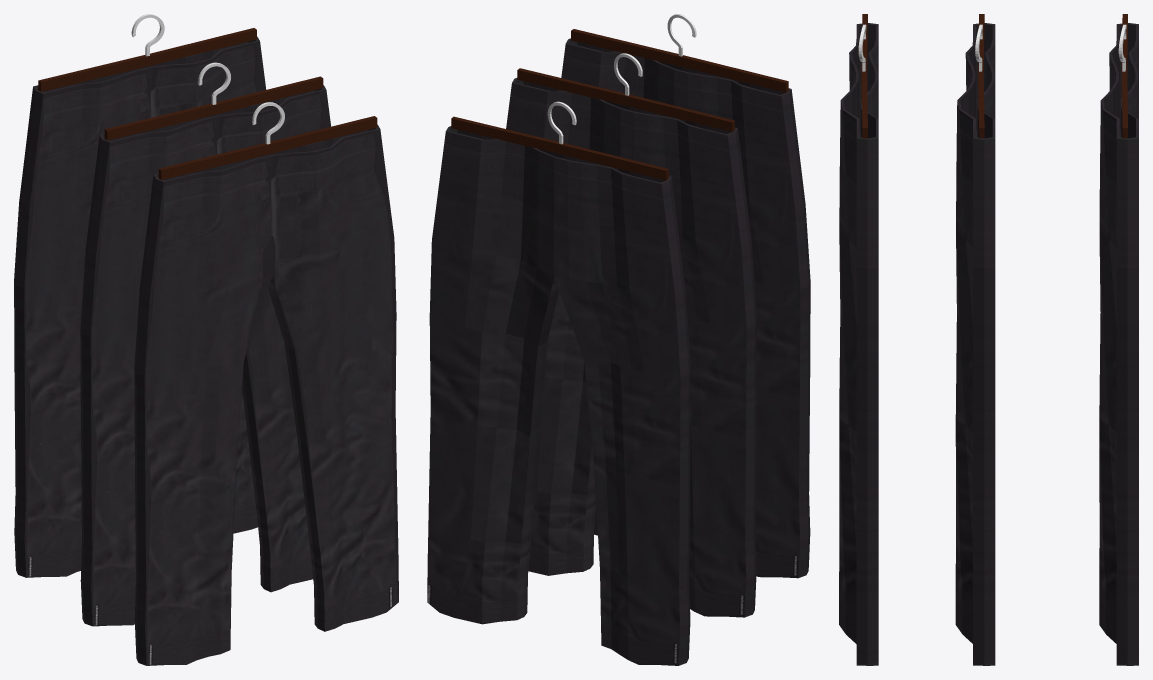
File: zeldris2.glb
3 renders of one model, left to right at view 1: azimuth 30°, elevation 25°; view 2: azimuth 150°, elevation 25°; view 3: azimuth 270°, elevation 25°, orthographic. The views are drawn at different scales.
Visible parts, largest first — view 1: Plane.018; view 2: Plane.018; view 3: Plane.018.
Boxes of the visible parts, bbox=[...] form: Plane.018: bbox=[14, 14, 398, 665]; Plane.018: bbox=[427, 14, 810, 665]; Plane.018: bbox=[839, 14, 1138, 665].
Bounding box in the file's own units: 0.2381 × 0.4706 × 0.2196.
3 materials, 3 textured.
